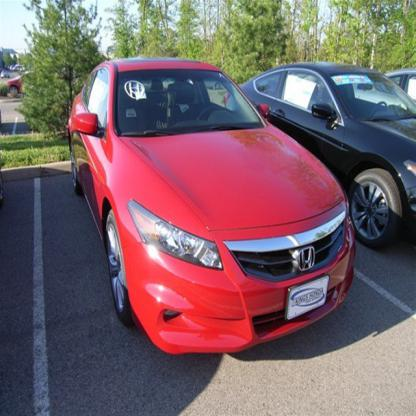Vehicle: (68, 58, 356, 355)
